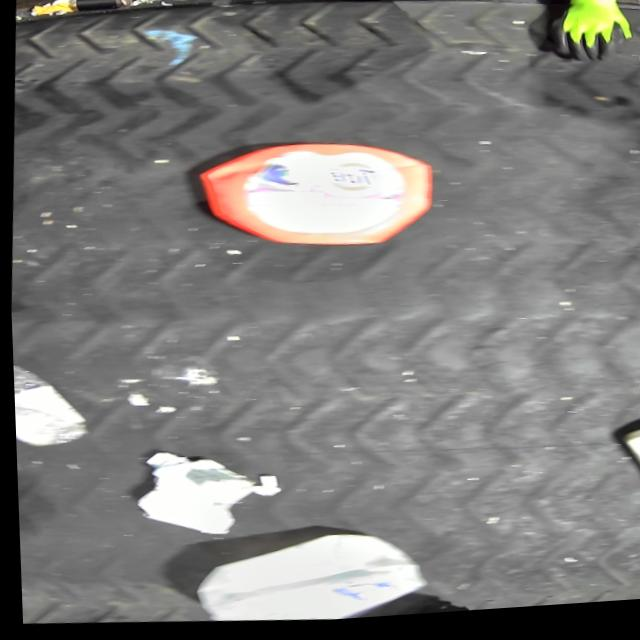milk_jug: (187, 525, 427, 631)
non_white_jug: (190, 131, 440, 266)
plastic_bottle: (11, 358, 90, 451)
